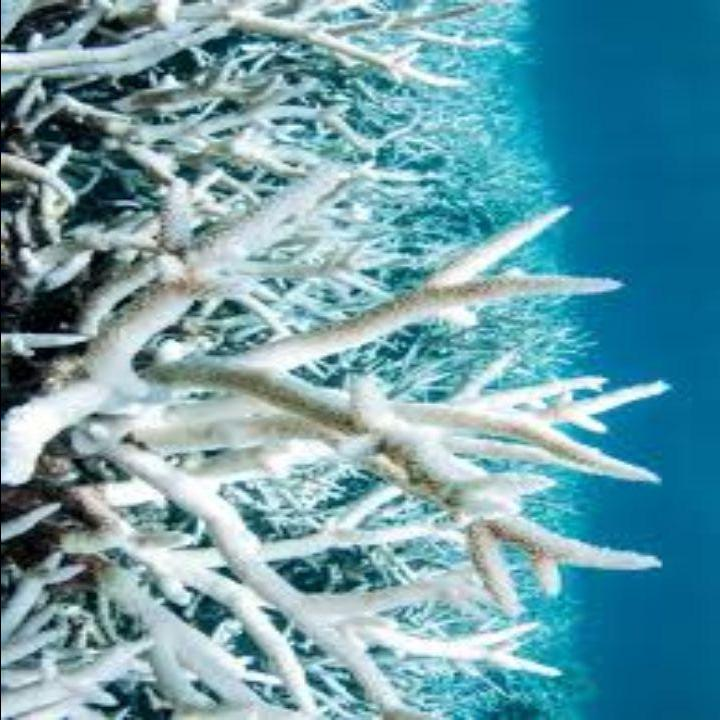Bleached disease: (64, 24, 635, 682)
